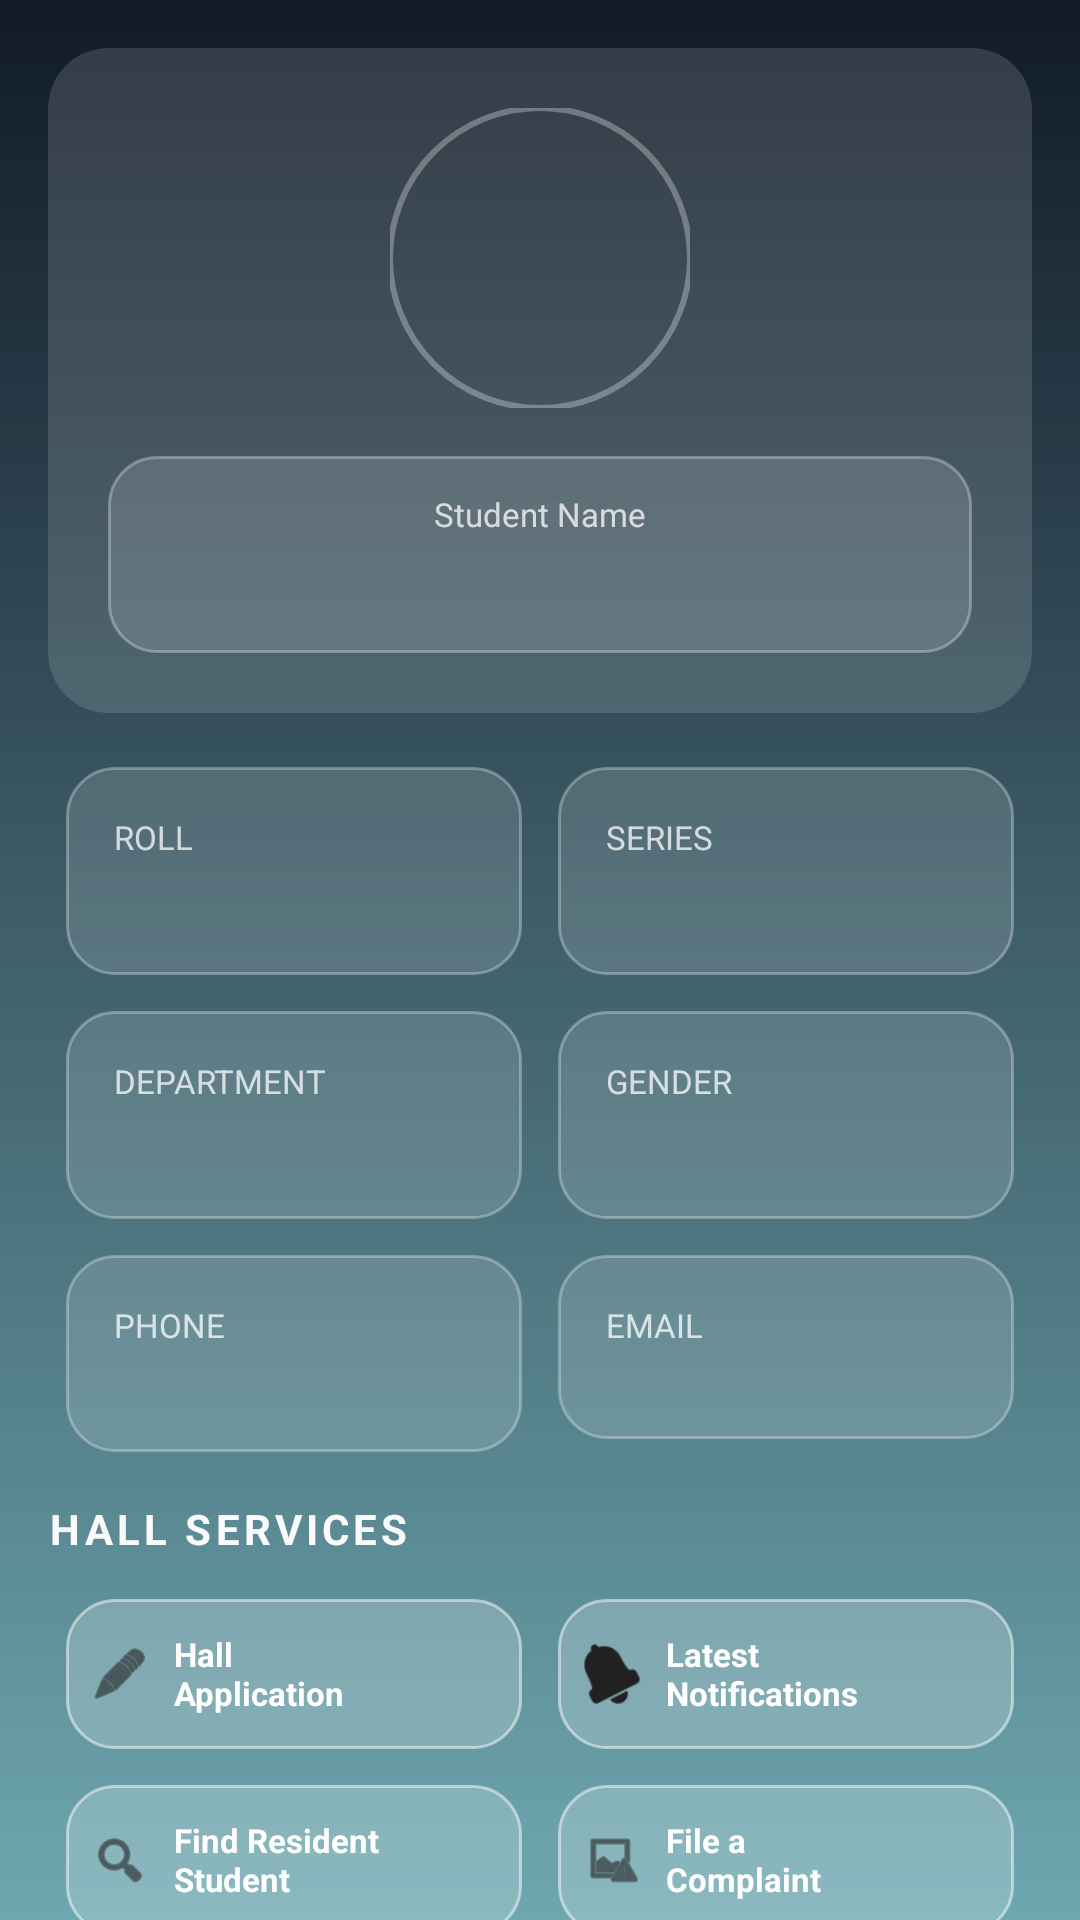

Named icons in this screenshot (1080×1920) and their centers, [x,y]:
edit: [120,1673]
popup reminder: [612,1674]
report: [614,1860]
search: [120,1860]
